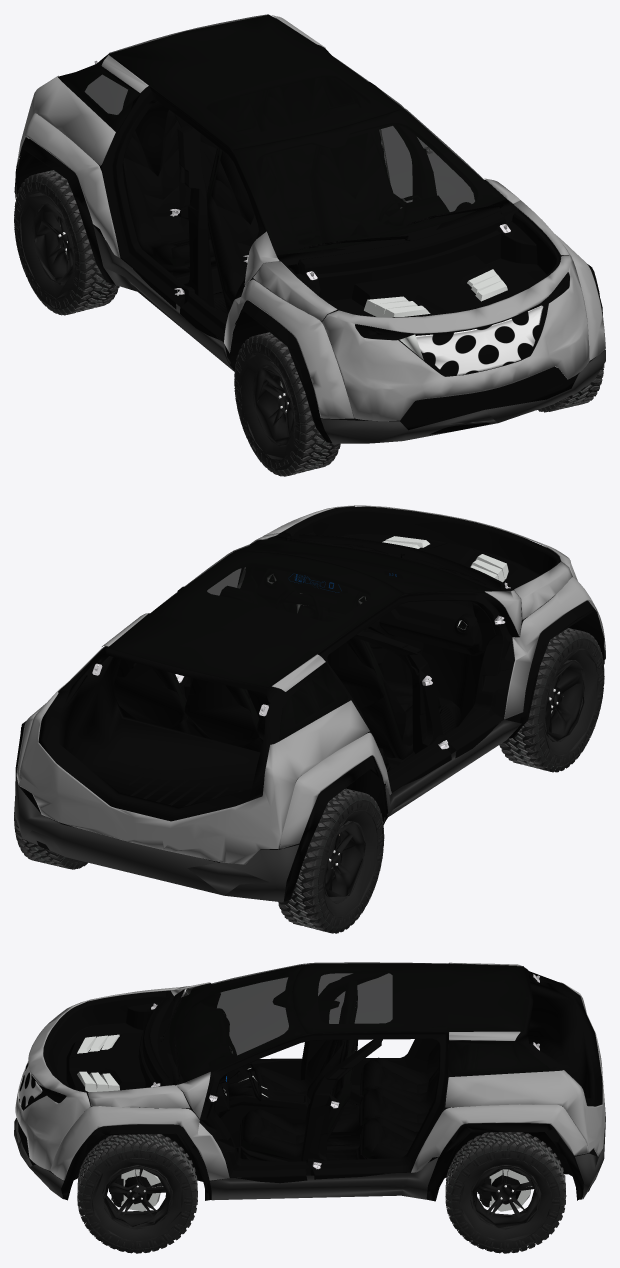
The model's file is trilha.glb.
The picture shows the model from 3 angles, top to bottom: view 1: azimuth 30°, elevation 25°; view 2: azimuth 150°, elevation 25°; view 3: azimuth 270°, elevation 25°; orthographic projection. The views are drawn at different scales.
Parts seen in each view (by area): view 1: Cube.027_plasticMatte_0, Cube.023_glass_0, Cube.020_body_0, wheel_701_wheel_nitto_0, Cube.169_grill_0, SW_base_blocker_0, Cube.165_headlightCovers_0; view 2: Cube.027_plasticMatte_0, Cube.023_glass_0, Cube.020_body_0, wheel_701_wheel_nitto_0, Torus.006_pattern_4_0, SW_base_blocker_0; view 3: Cube.027_plasticMatte_0, Cube.023_glass_0, Cube.020_body_0, wheel_701_wheel_nitto_0, SW_base_blocker_0, Torus.006_pattern_4_0, Cube.169_grill_0.
Boxes of the visible parts, box(x1,y1,x2,y2) form: Cube.027_plasticMatte_0: box(14, 15, 605, 474); Cube.023_glass_0: box(63, 14, 504, 255); Cube.020_body_0: box(16, 15, 605, 421); wheel_701_wheel_nitto_0: box(14, 170, 604, 476); Cube.169_grill_0: box(416, 305, 543, 375); SW_base_blocker_0: box(126, 78, 387, 303); Cube.165_headlightCovers_0: box(357, 274, 568, 424); Cube.027_plasticMatte_0: box(14, 506, 605, 929); Cube.023_glass_0: box(63, 536, 495, 740); Cube.020_body_0: box(16, 505, 605, 864); wheel_701_wheel_nitto_0: box(14, 628, 604, 933); Torus.006_pattern_4_0: box(116, 589, 373, 715); SW_base_blocker_0: box(113, 572, 466, 768); Cube.027_plasticMatte_0: box(14, 963, 605, 1252); Cube.023_glass_0: box(169, 962, 551, 1082); Cube.020_body_0: box(15, 962, 605, 1180); wheel_701_wheel_nitto_0: box(77, 1132, 566, 1253); SW_base_blocker_0: box(225, 981, 477, 1161); Torus.006_pattern_4_0: box(239, 996, 478, 1154); Cube.169_grill_0: box(18, 1061, 42, 1106).
Bounding box in the file's own units: 2.31 × 1.71 × 4.6.
10 materials, 10 textured.
